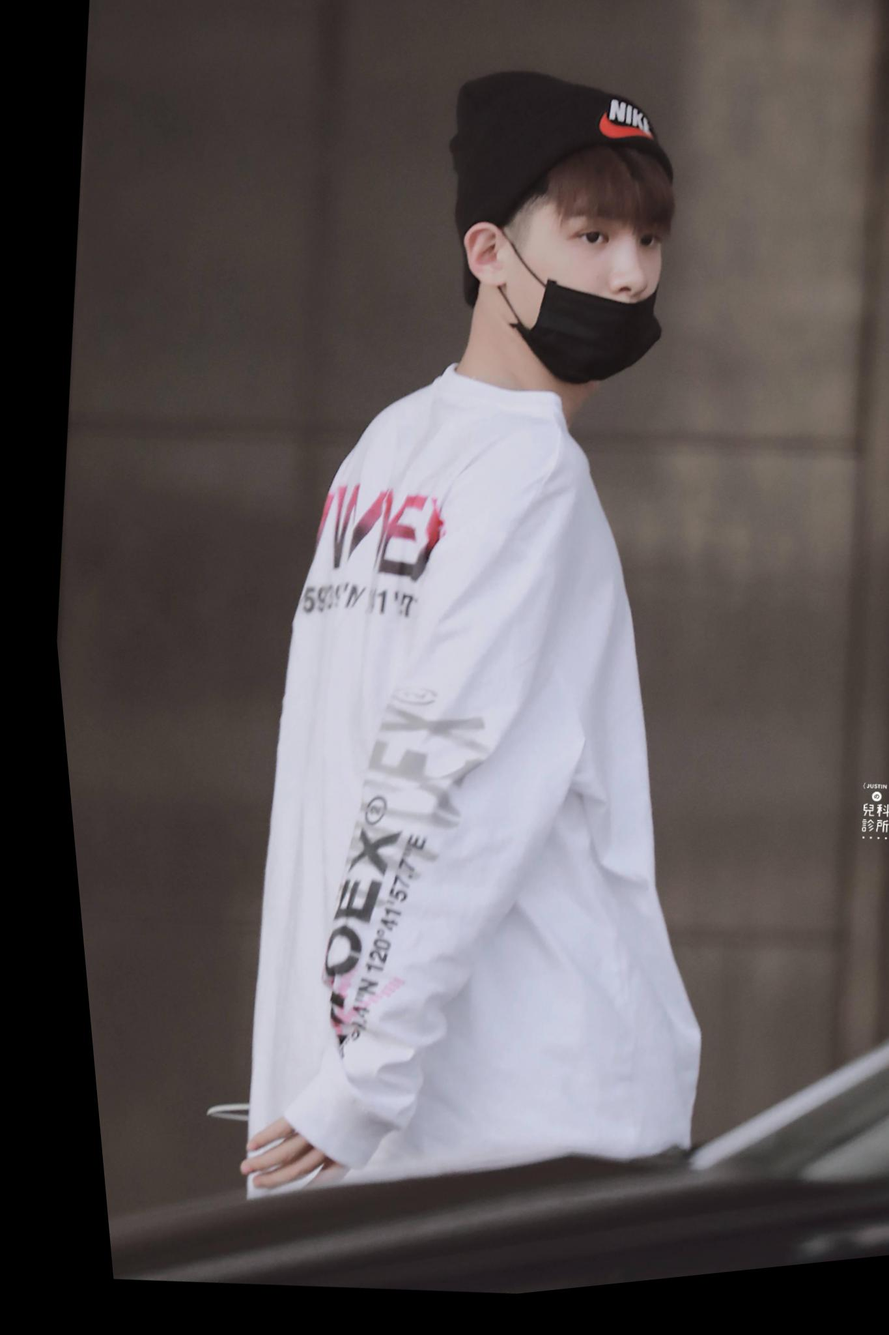WRONG: (500, 180, 680, 409)
